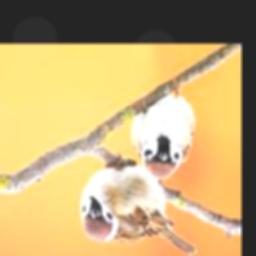Sparrow: (81, 153, 196, 254), (130, 76, 195, 180)
